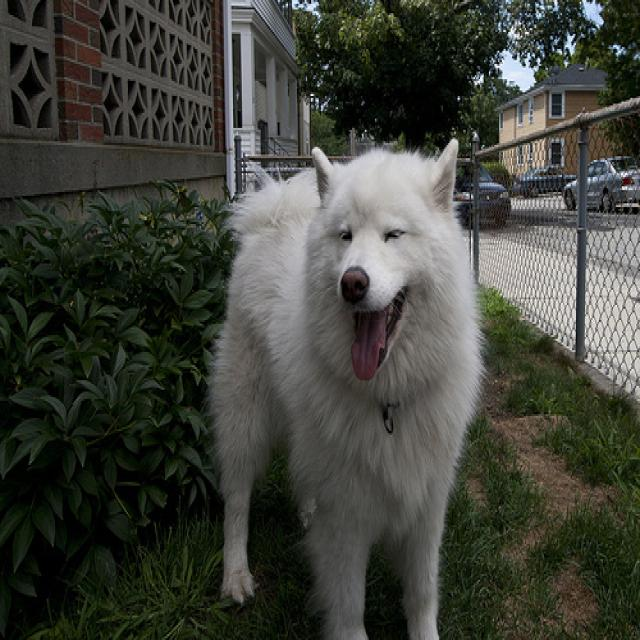dog-samoyed: (209, 128, 488, 636)
